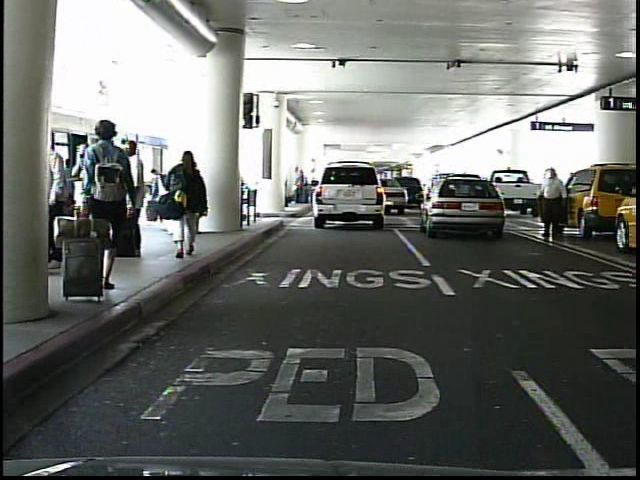person: (79, 113, 134, 303), (166, 144, 210, 268), (114, 138, 151, 258), (539, 167, 568, 242), (175, 156, 200, 234)
